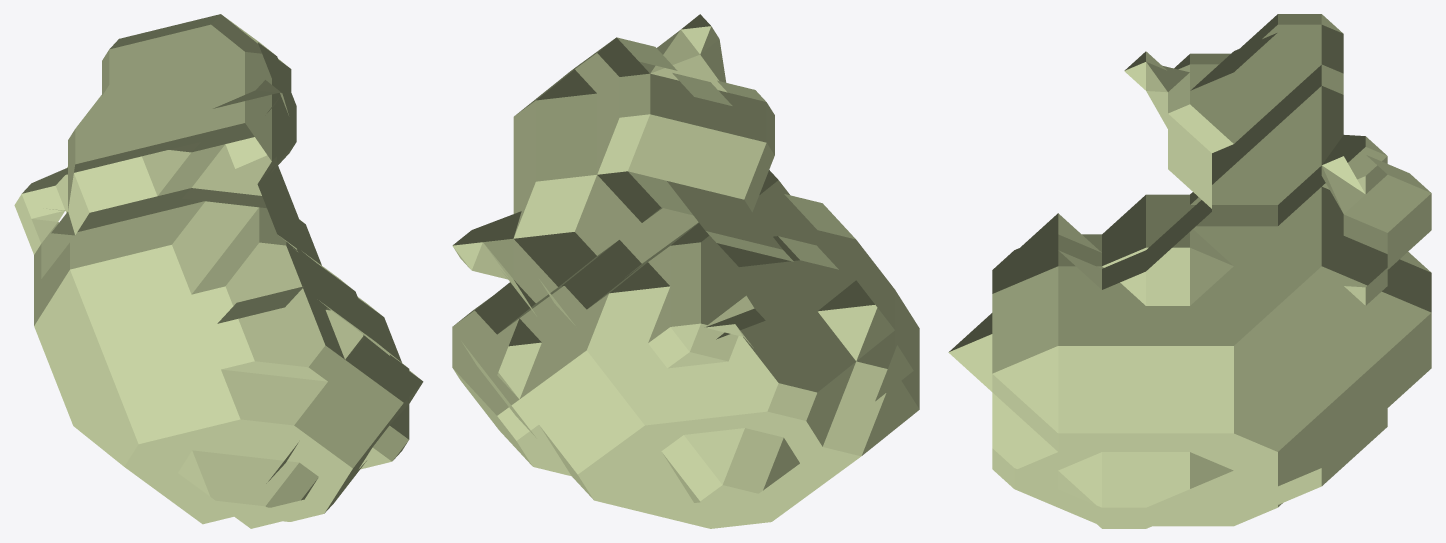
File: region_0048_E__epiphysis_.glb
3 renders of one model, left to right at view 1: azimuth 30°, elevation 25°; view 2: azimuth 150°, elevation 25°; view 3: azimuth 270°, elevation 25°, orthographic. The views are drawn at different scales.
Parts seen in each view (by area): view 1: world; view 2: world; view 3: world.
Part boxes in pixels (x1,y1,x2,y2): world: (14, 14, 423, 528); world: (452, 14, 919, 528); world: (948, 14, 1431, 528).
Size of the model in its own units: 0.08 by 0.096 by 0.088.
